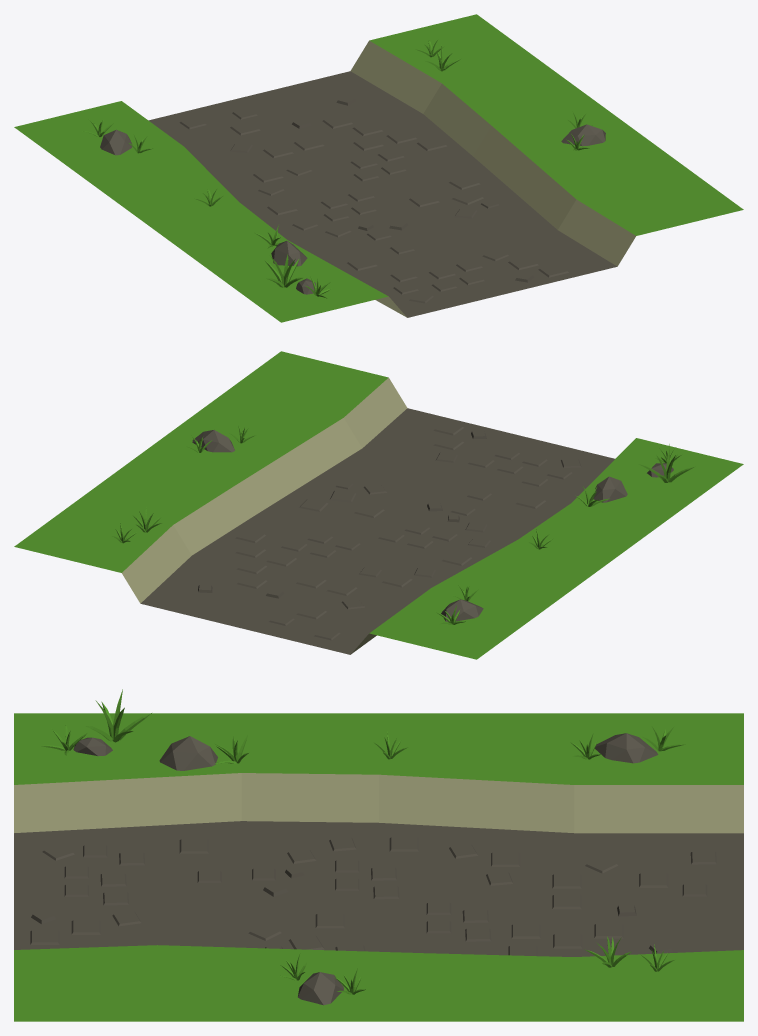
Rendered from RoadStraight_A.fbx.
The picture shows the model from 3 angles, top to bottom: view 1: azimuth 30°, elevation 25°; view 2: azimuth 150°, elevation 25°; view 3: azimuth 270°, elevation 25°; orthographic projection. The views are drawn at different scales.
Visible parts, largest first — view 1: RoadStraight_A; view 2: RoadStraight_A; view 3: RoadStraight_A.
Boxes of the visible parts, x1,y1,x2,y2 form: RoadStraight_A: [14, 14, 743, 322]; RoadStraight_A: [14, 351, 743, 659]; RoadStraight_A: [14, 689, 743, 1021].
Bounding box in the file's own units: 500 × 62.11 × 500.
